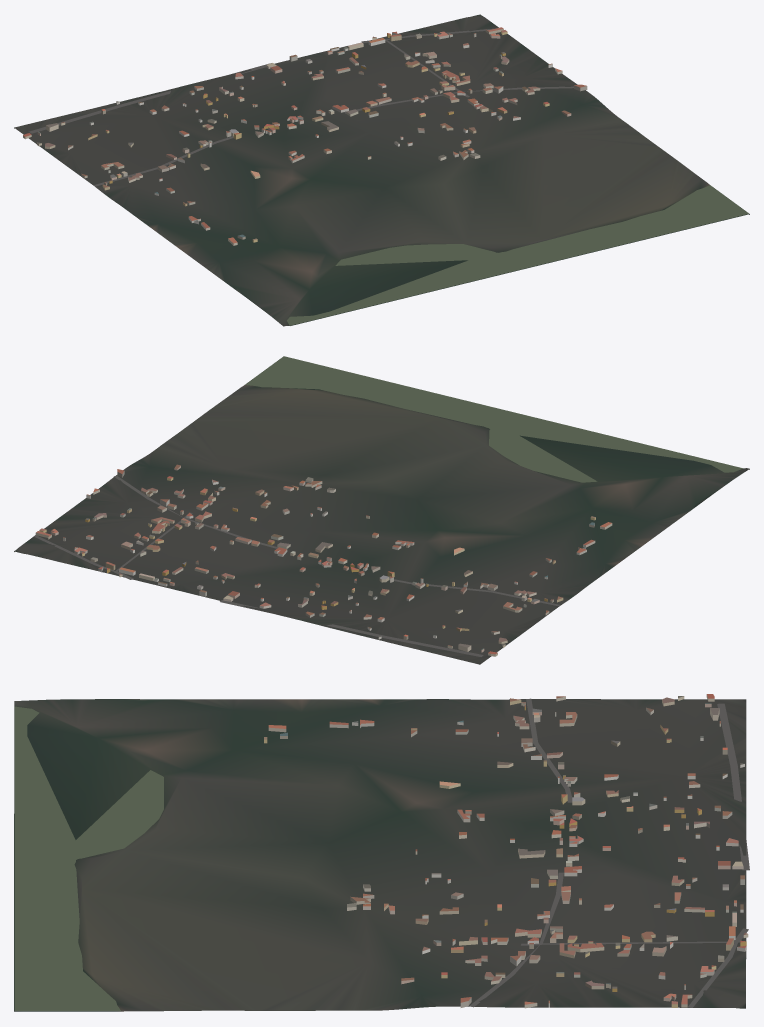
3 renders of one model, top to bottom at view 1: azimuth 30°, elevation 25°; view 2: azimuth 150°, elevation 25°; view 3: azimuth 270°, elevation 25°, orthographic. The views are drawn at different scales.
Parts seen in each view (by area): view 1: ground, water, buildings, roads; view 2: ground, water, buildings, roads; view 3: ground, water, buildings, roads.
Boxes of the visible parts, <box> form: ground: <box>14,14,749,326</box>; water: <box>287,185,748,325</box>; buildings: <box>23,27,587,245</box>; roads: <box>29,28,573,186</box>; ground: <box>14,356,749,664</box>; water: <box>245,356,742,482</box>; buildings: <box>35,464,612,656</box>; roads: <box>33,475,560,656</box>; ground: <box>14,699,746,1011</box>; water: <box>14,706,163,1010</box>; buildings: <box>264,694,748,1008</box>; roads: <box>469,698,749,1007</box>.
Size of the model in its own units: 1414 by 25.2 by 1409.
